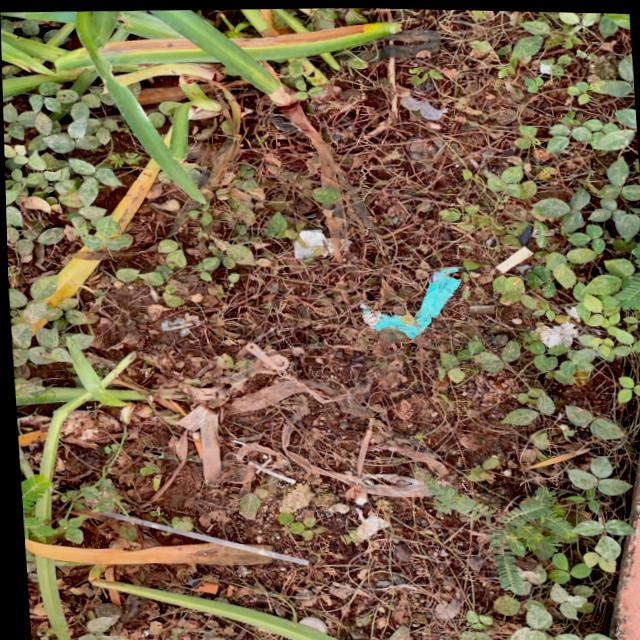Paper: (527, 315, 578, 352)
Plastic: (63, 492, 310, 574), (353, 258, 465, 341), (282, 221, 354, 265)
